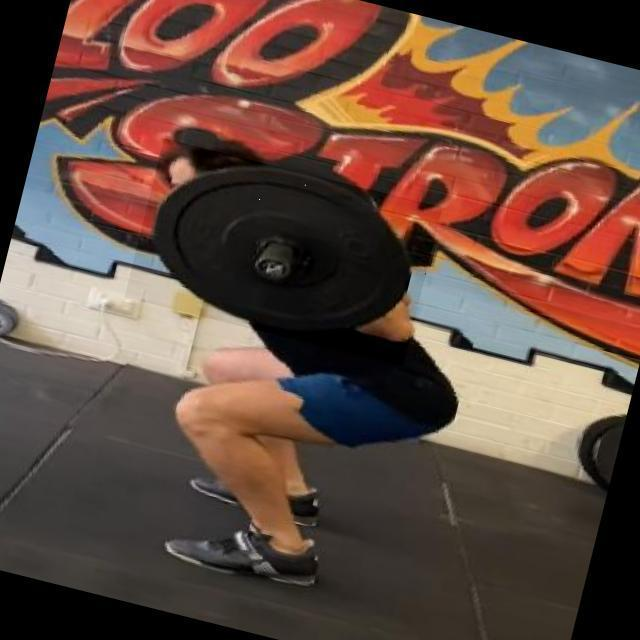barbell: (125, 139, 443, 368)
